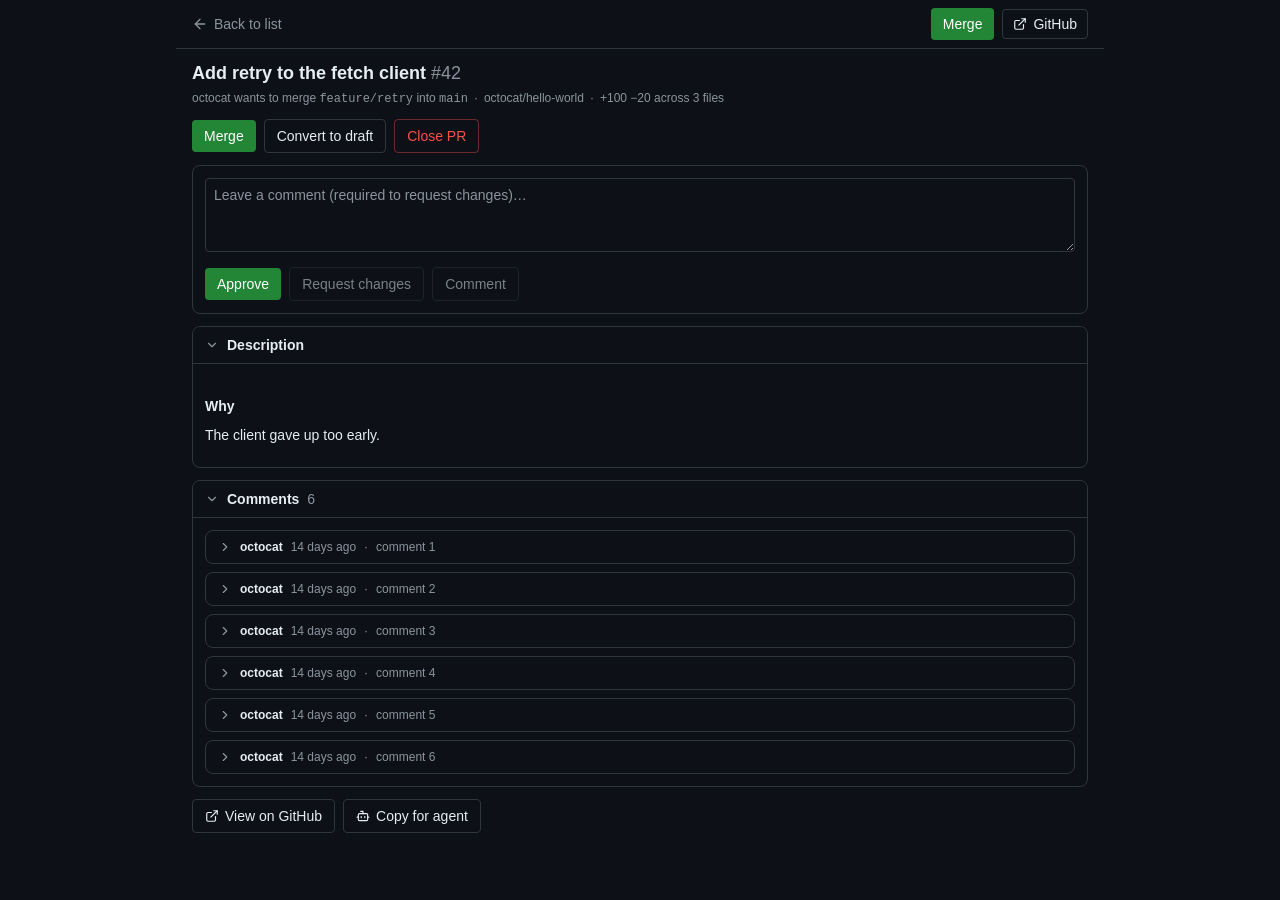
PrDetailView › collapses each comment individually, with its own toggle
Check: the text "6" is shown, box [307,488,315,508]
What coordinates should you click on to do the following:
click the button "octocat 14 days ago · comment 3"
I would click on:
 (261, 630)
Its box is [206,614,1074,646].
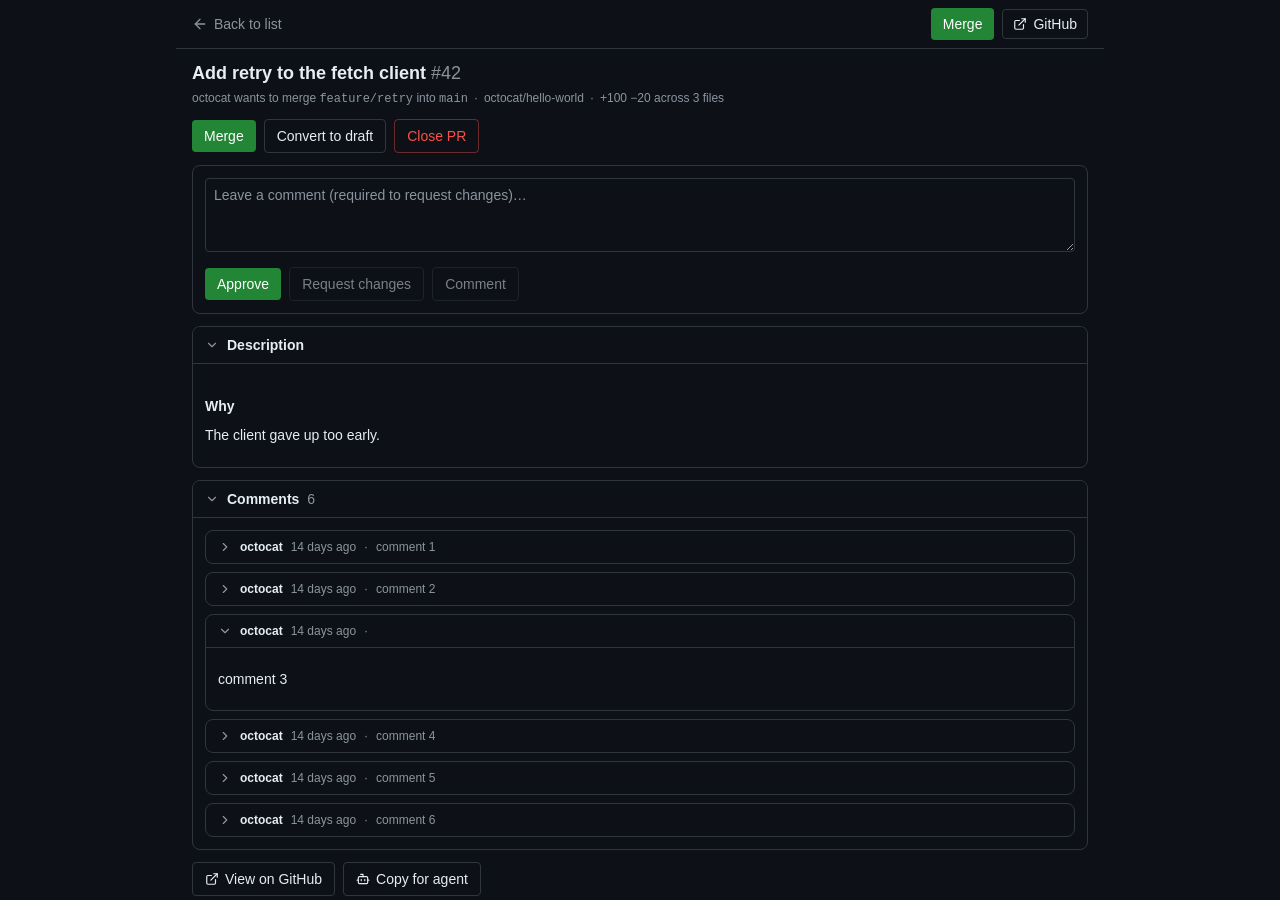
Check: the button named "comment 3" is expanded, box [206,614,1074,646]
